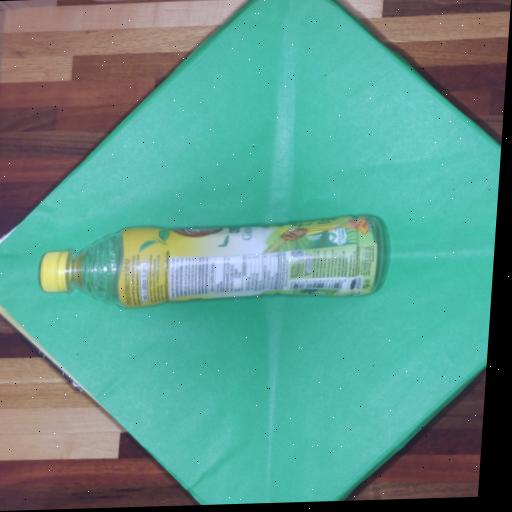bottle: (29, 210, 391, 309)
